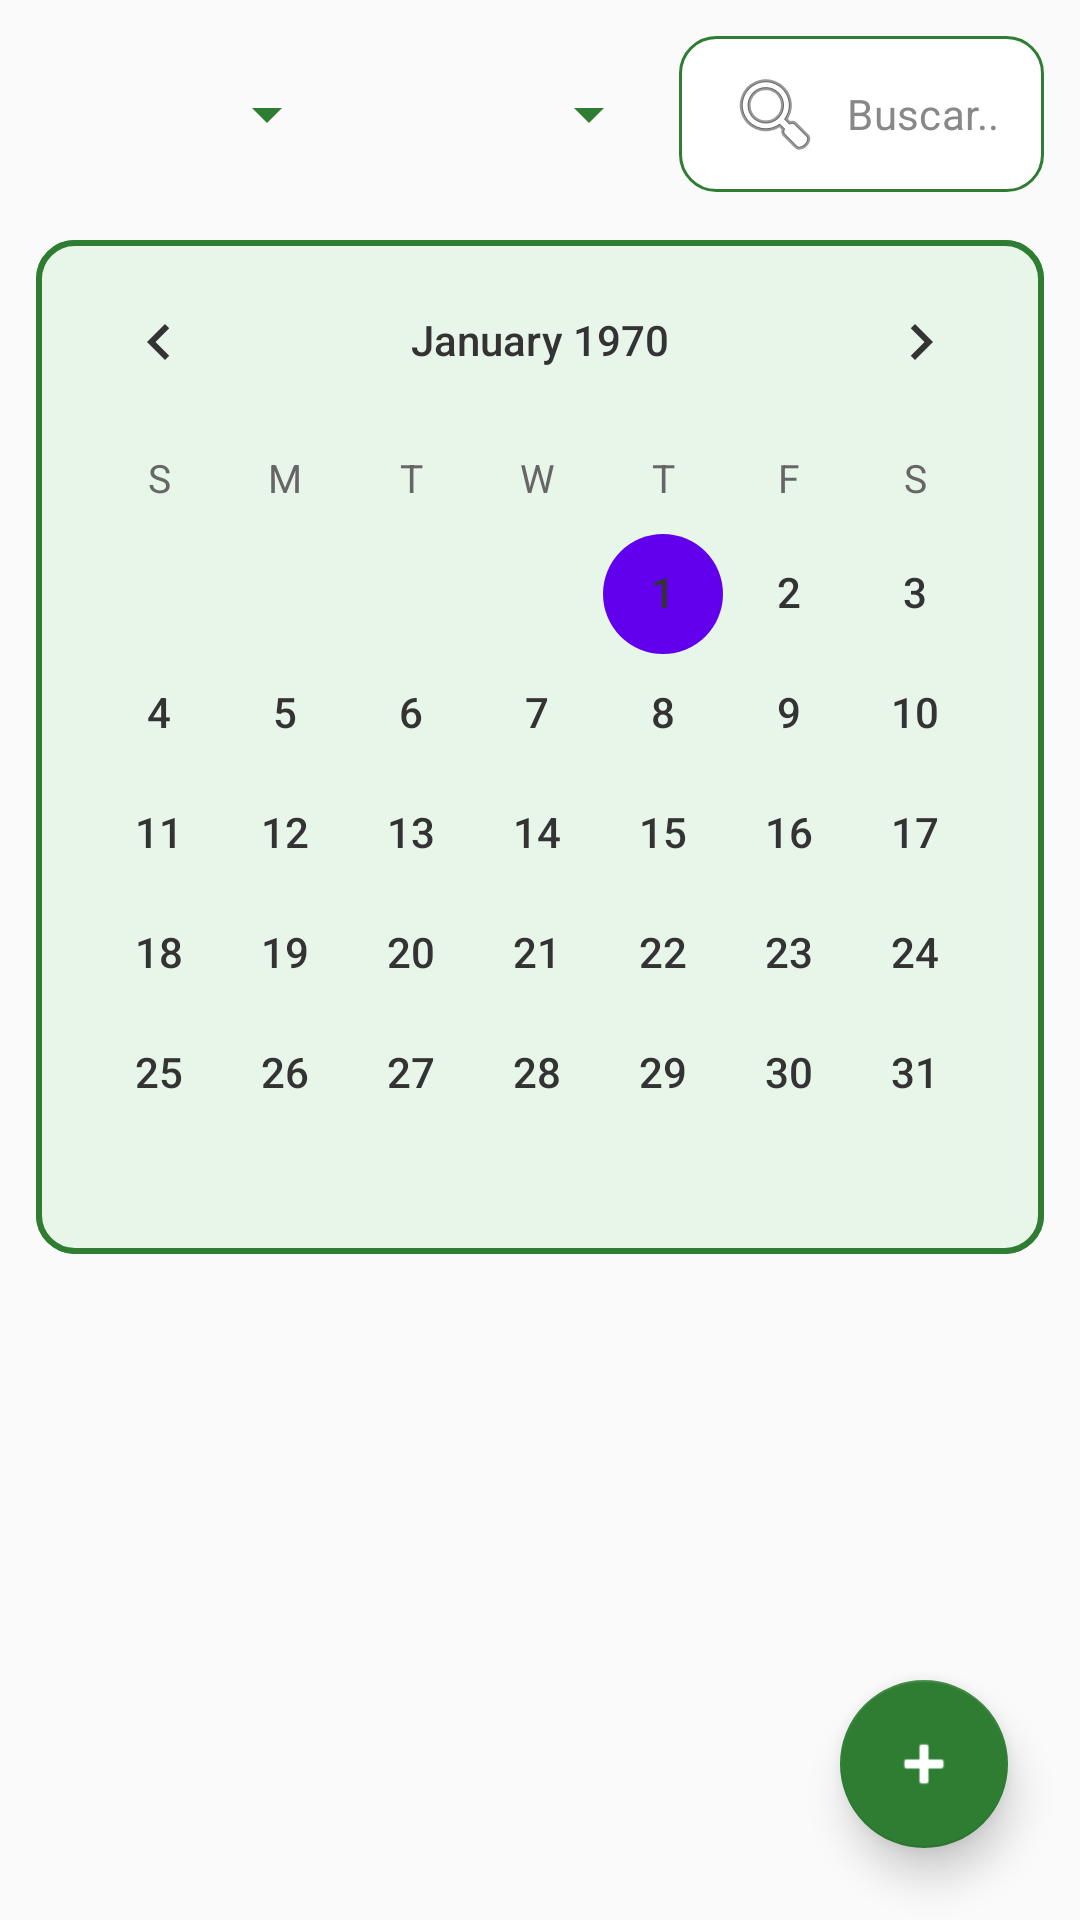

Screen size 1080 × 1920. Icon name, then its center in pixels as (x=x, y=y):
Crear nueva cita: (x=924, y=1764)
